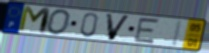0: (80, 12, 100, 38)
E: (132, 16, 162, 45)
I: (169, 19, 185, 48)
M: (17, 5, 53, 36)
O: (45, 8, 73, 37)
V: (104, 13, 133, 42)
